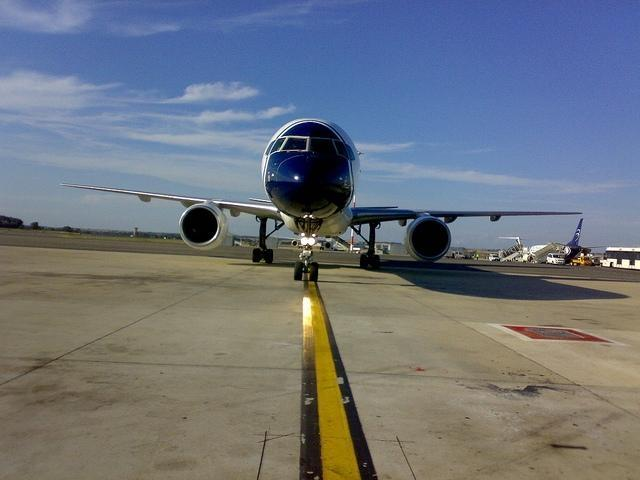car: (546, 252, 564, 265), (444, 252, 465, 260), (489, 254, 500, 262)
